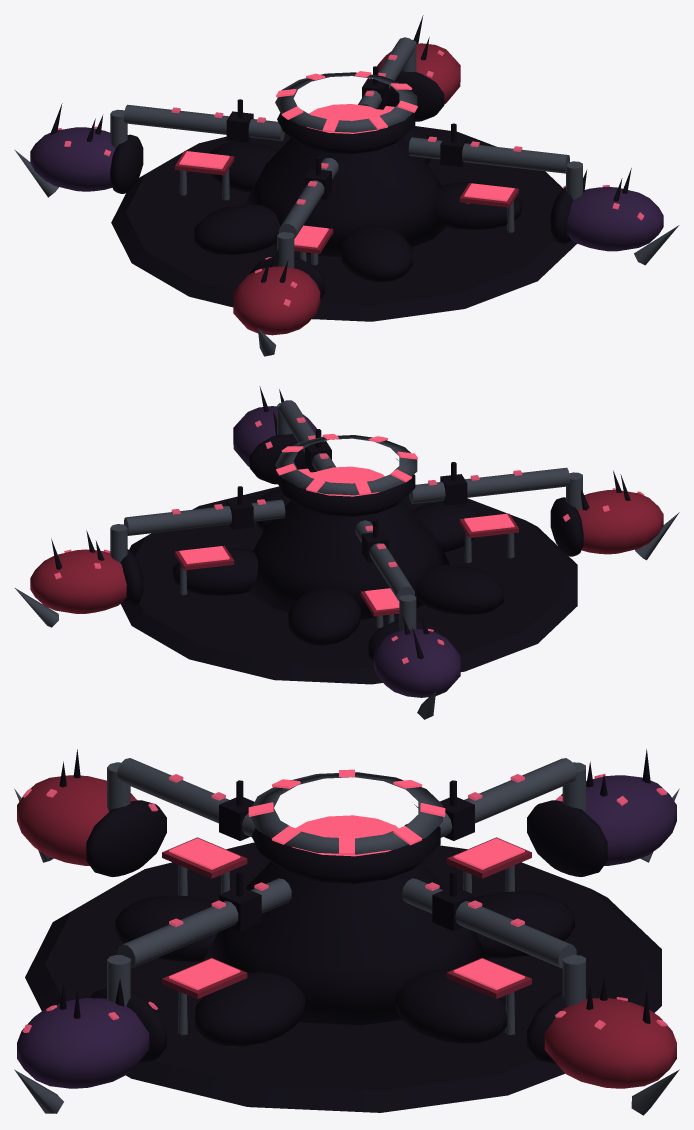
The model's file is vent-tap-directorate.glb.
The picture shows the model from 3 angles, top to bottom: view 1: azimuth 30°, elevation 25°; view 2: azimuth 150°, elevation 25°; view 3: azimuth 270°, elevation 25°; orthographic projection. The views are drawn at different scales.
Visible parts, largest first — view 1: apron, carapace (×4), vent_chimney, draw_pipe (×4), carapace_seam (×4), basalt_lobe_2, basalt_lobe_1, clamp_ring, basalt_lobe_0, manifold_ring, basalt_lobe_3, platform_flood (×3) (+3 smaller); view 2: apron, carapace (×4), vent_chimney, draw_pipe (×4), carapace_seam (×4), basalt_lobe_2, basalt_lobe_3, clamp_ring, basalt_lobe_4, manifold_ring, basalt_lobe_1, platform_flood (×3) (+4 smaller); view 3: apron, carapace (×4), vent_chimney, draw_pipe (×4), carapace_seam (×4), basalt_lobe_0, basalt_lobe_4, clamp_ring, platform_flood (×4), valve_block (×4), manifold_ring, riser (×4) (+5 smaller).
Part boxes in pixels (x1,y1,x2,y2): apron: (111, 126, 576, 321); carapace (×4): (30, 43, 663, 335); vent_chimney: (244, 138, 446, 256); draw_pipe (×4): (124, 37, 569, 238); carapace_seam (×4): (110, 71, 573, 298); basalt_lobe_2: (194, 204, 280, 254); basalt_lobe_1: (339, 225, 412, 282); clamp_ring: (277, 96, 415, 153); basalt_lobe_0: (437, 182, 521, 229); manifold_ring: (275, 72, 417, 132); basalt_lobe_3: (209, 141, 278, 192); platform_flood (×3): (179, 151, 514, 247); apron: (121, 486, 577, 684); carapace (×4): (30, 406, 663, 697); vent_chimney: (248, 500, 450, 619); draw_pipe (×4): (124, 400, 569, 600); carapace_seam (×4): (120, 433, 583, 661); basalt_lobe_2: (416, 564, 503, 614); basalt_lobe_3: (288, 589, 360, 645); clamp_ring: (277, 458, 415, 516); basalt_lobe_4: (173, 547, 258, 595); manifold_ring: (275, 435, 417, 495); basalt_lobe_1: (412, 502, 480, 552); platform_flood (×3): (179, 513, 514, 610); apron: (25, 842, 661, 1112); carapace (×4): (17, 775, 676, 1088); vent_chimney: (202, 861, 489, 1025); draw_pipe (×4): (117, 758, 576, 968); carapace_seam (×4): (86, 800, 607, 1063); basalt_lobe_0: (195, 972, 305, 1046); basalt_lobe_4: (395, 969, 506, 1043); clamp_ring: (251, 804, 440, 883); platform_flood (×4): (169, 838, 524, 990); valve_block (×4): (219, 797, 474, 931); manifold_ring: (251, 772, 442, 854); riser (×4): (107, 762, 585, 1006).
Bounding box in the file's own units: 169 × 51.04 × 169.
